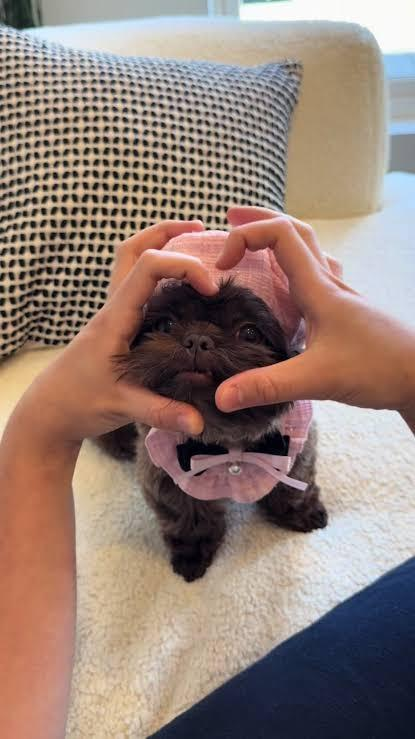adult_dog: (91, 273, 326, 583)
